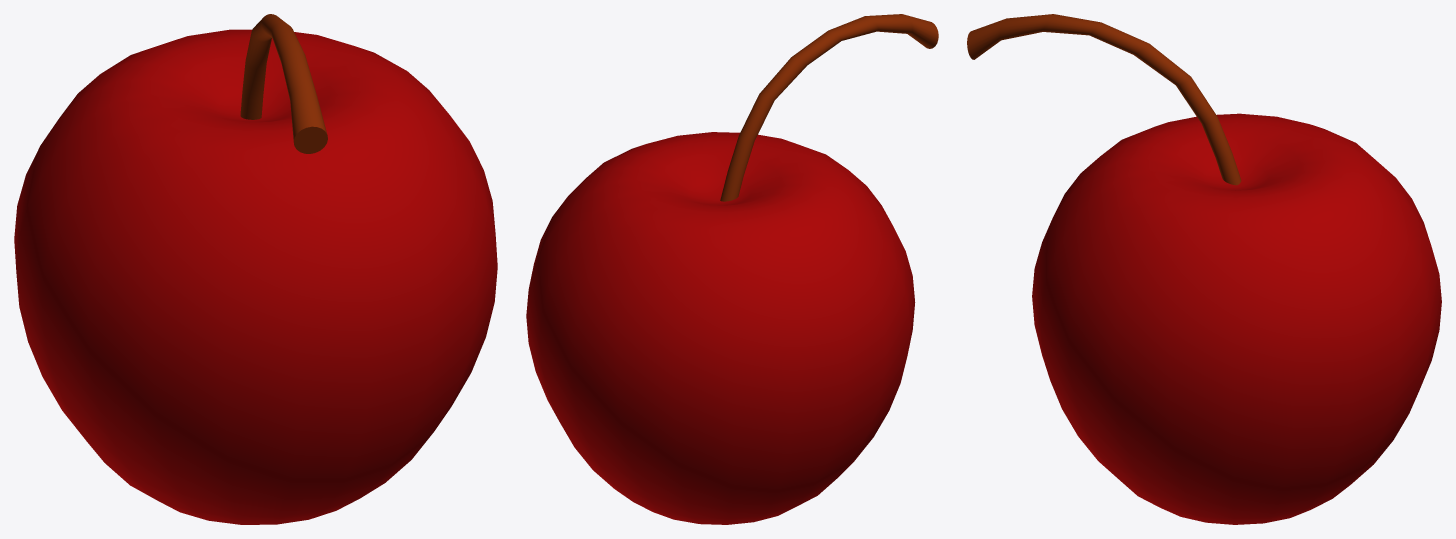
Rendered from teatime_cherry.glb.
The picture shows the model from 3 angles, left to right: view 1: azimuth 30°, elevation 25°; view 2: azimuth 150°, elevation 25°; view 3: azimuth 270°, elevation 25°; orthographic projection. The views are drawn at different scales.
Parts seen in each view (by area): view 1: pSphere4, pCylinder11; view 2: pSphere4, pCylinder11; view 3: pSphere4, pCylinder11.
Boxes of the visible parts, x1,y1,x2,y2 form: pSphere4: (14,29,497,524); pCylinder11: (240,14,327,153); pSphere4: (526,132,915,524); pCylinder11: (720,14,938,201); pSphere4: (1032,113,1441,524); pCylinder11: (967,14,1241,185).
Bounding box in the file's own units: 0.2586 × 0.3237 × 0.303.
